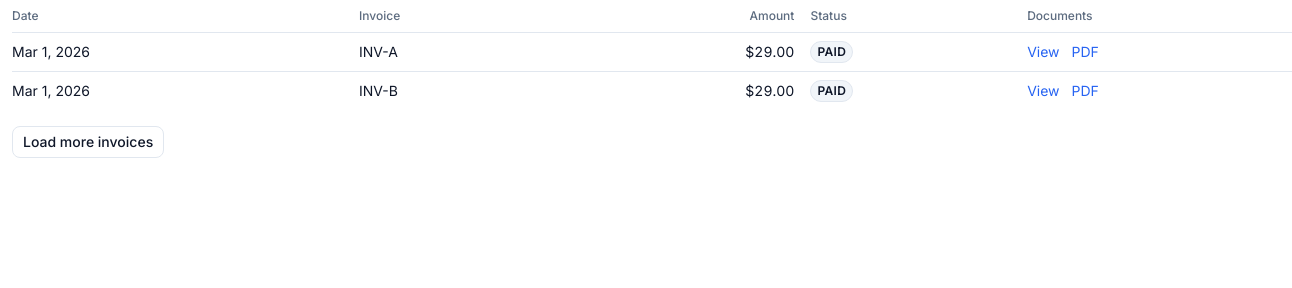
Test: InvoiceHistoryList – loading more › appends the next page after the rows already shown and moves the cursor on
Click the button "Load more invoices": (88,142) [12, 126, 164, 158]
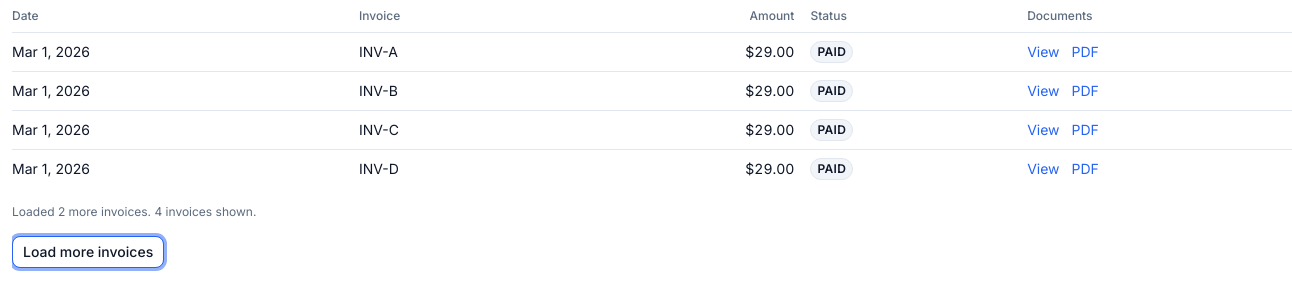
Click the button "Load more invoices": (88,252) [12, 236, 164, 268]
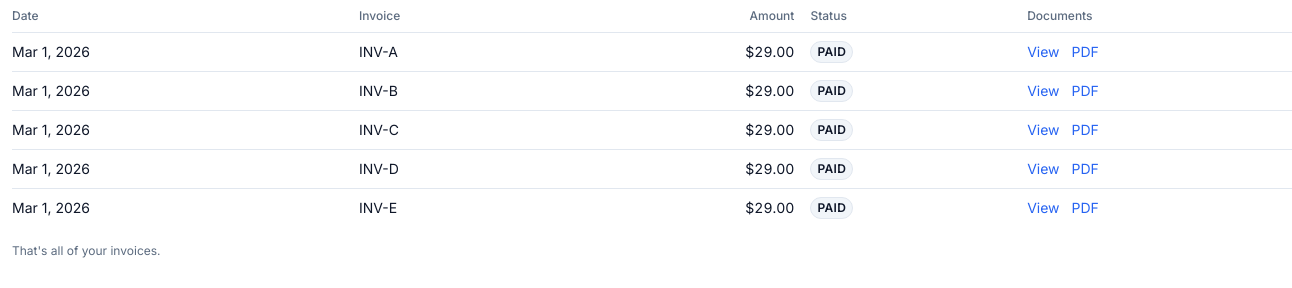
Check: the cell "INV-E" is shown, box [359, 188, 570, 227]
